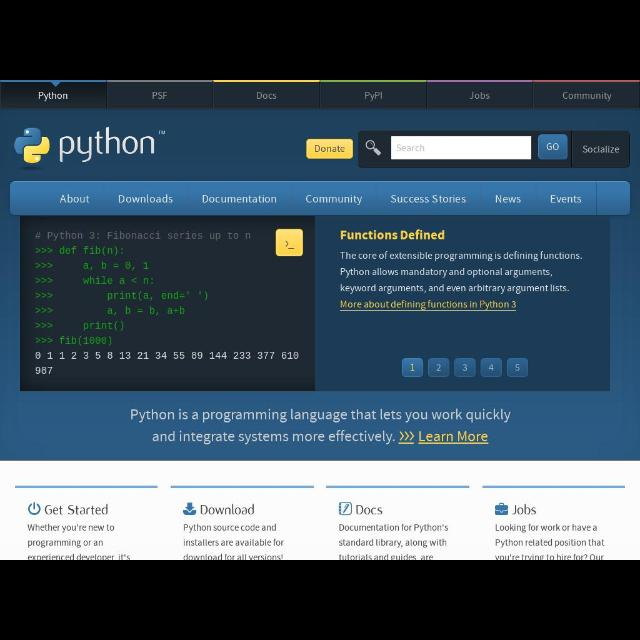button: (276, 228, 304, 256)
icon: (363, 140, 382, 156), (28, 500, 42, 516), (183, 502, 197, 516), (338, 501, 352, 515), (495, 502, 509, 516), (285, 240, 295, 250)
image: (20, 216, 314, 392), (12, 125, 170, 171)
input: (391, 136, 531, 160)
multitab: (9, 180, 628, 214), (1, 82, 639, 108)
pageindicator: (402, 358, 528, 378)
text: (338, 250, 584, 312), (130, 406, 512, 444), (492, 522, 608, 560), (338, 522, 450, 560), (26, 520, 130, 560), (183, 521, 285, 559), (340, 228, 446, 240), (44, 504, 110, 516), (200, 194, 278, 204), (389, 194, 466, 204), (201, 502, 255, 516), (306, 194, 362, 206), (560, 90, 612, 102), (118, 193, 172, 203), (582, 142, 620, 156), (34, 90, 70, 104), (314, 142, 346, 154), (356, 504, 384, 516), (510, 504, 538, 516), (59, 194, 91, 204), (549, 194, 581, 204), (494, 194, 522, 204), (396, 143, 424, 153), (362, 90, 384, 102), (252, 90, 278, 100), (468, 91, 490, 101), (150, 90, 170, 100), (544, 140, 560, 152)
textbutton: (572, 131, 630, 167), (305, 137, 353, 159), (536, 132, 568, 160)
